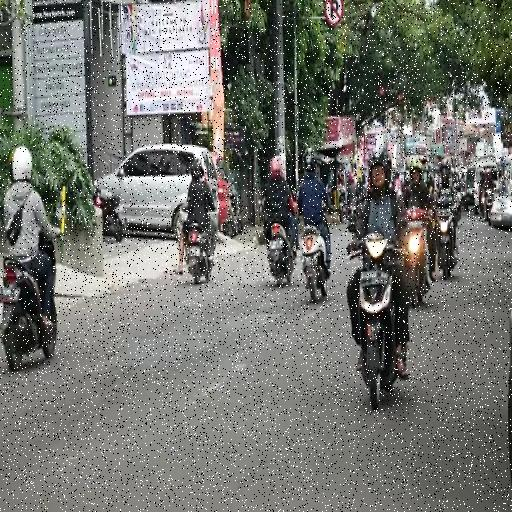Helmet: (369, 149, 391, 187), (12, 147, 32, 180), (269, 156, 282, 180), (409, 158, 423, 180), (304, 148, 317, 171), (440, 162, 451, 187), (191, 160, 203, 181), (348, 172, 354, 183), (405, 176, 411, 186)
Motor: (348, 234, 406, 410), (0, 257, 56, 371), (405, 208, 431, 307), (301, 226, 328, 303), (95, 182, 126, 242), (436, 195, 458, 279), (185, 223, 213, 284), (268, 223, 294, 286), (230, 184, 243, 235), (483, 189, 494, 225), (348, 199, 358, 232), (455, 186, 463, 226), (337, 194, 347, 223)
